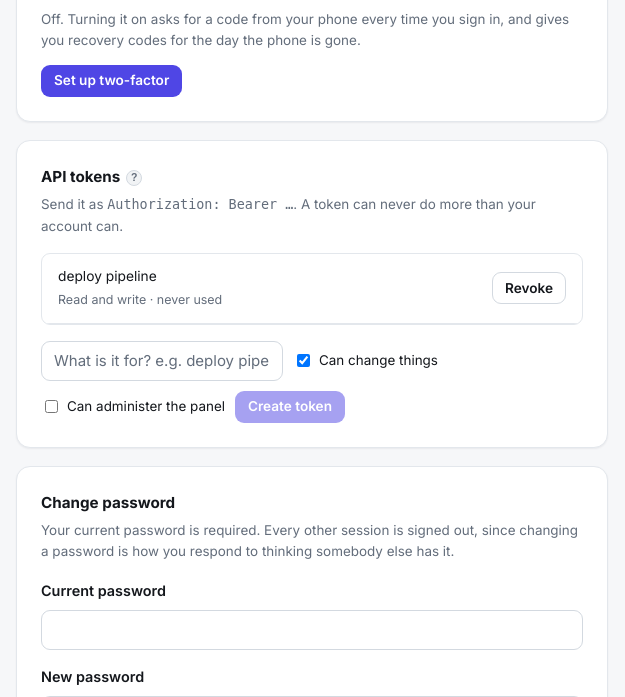
Test: Account API tokens › shows the secret and keeps it on screen until it is dismissed
(page scrolled)
expect the text "deploy pipeline" is shown: met, box [58, 268, 157, 284]
In the field named "token name": (162, 361) [41, 341, 283, 381], type "ci"
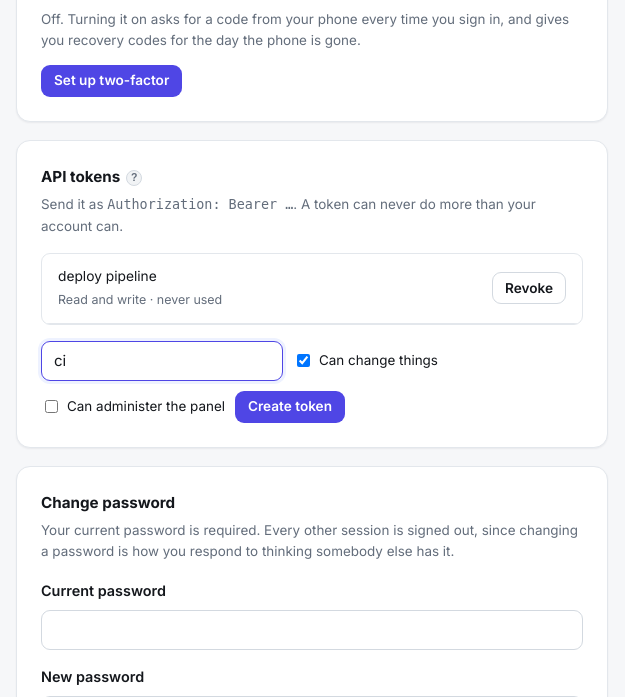
Click the button "Create token": (290, 407) [235, 391, 345, 423]
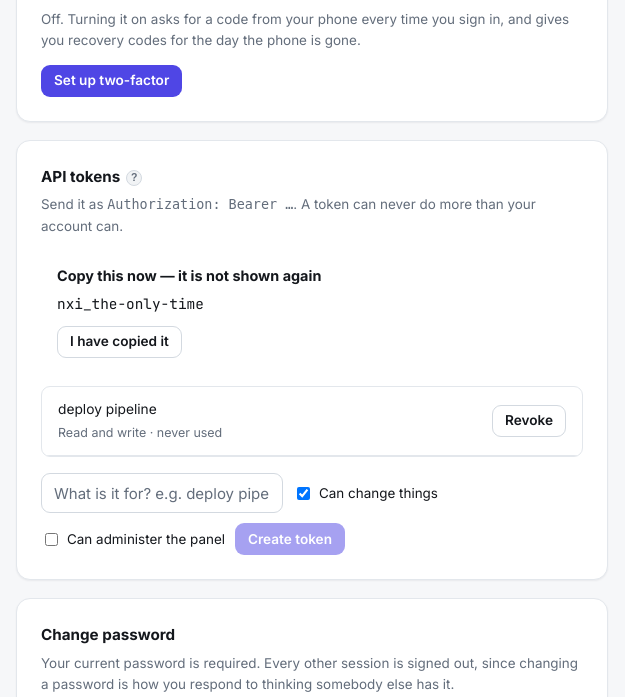
expect the text "nxi_the-only-time" is shown: met, box [57, 294, 204, 313]
Click the button "I have copied it": (119, 342) [57, 326, 182, 358]
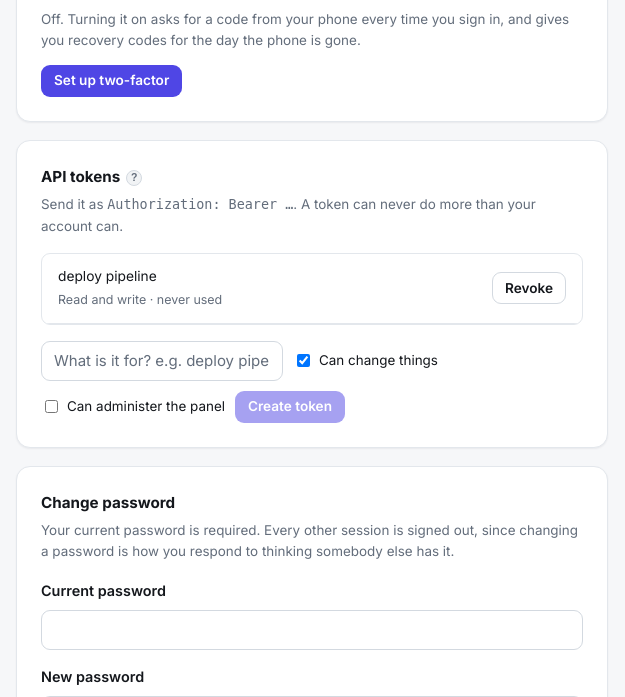
expect the text "nxi_the-only-time" is gone: met
